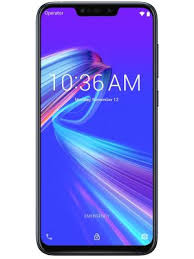asus: (32, 1, 160, 257)
